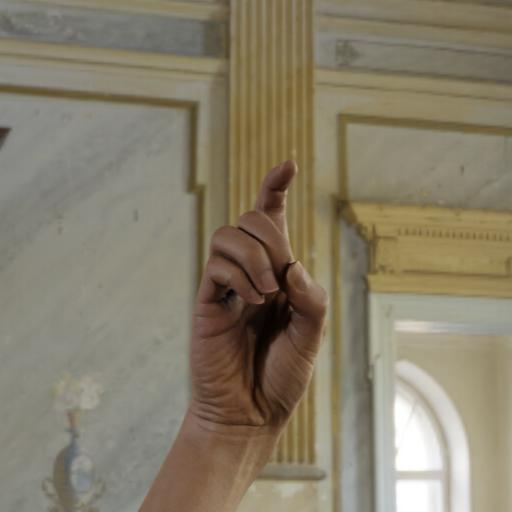X: (161, 153, 340, 512)
